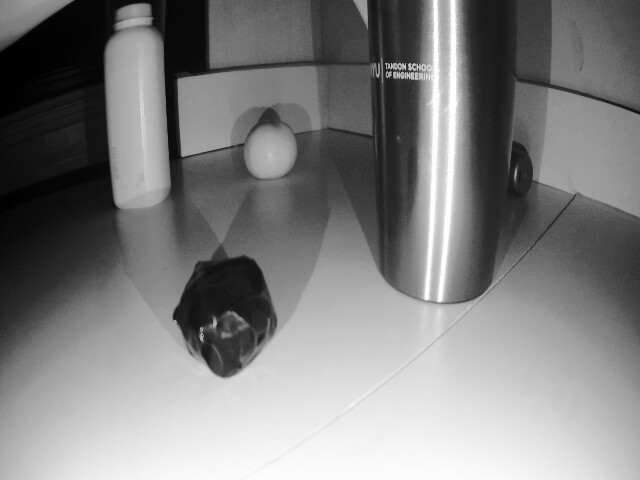silver: (150, 249, 268, 378)
